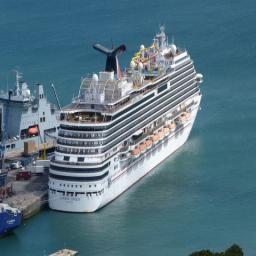cruises: (47, 22, 206, 213)
